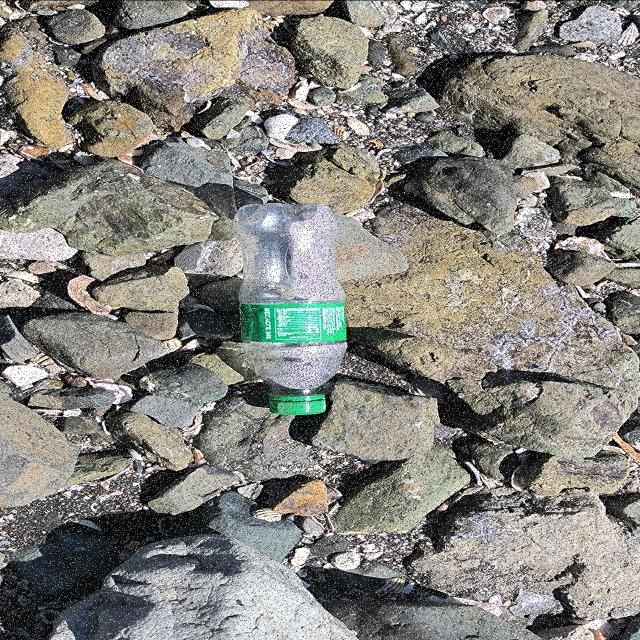plastic_waste: (233, 203, 349, 415)
